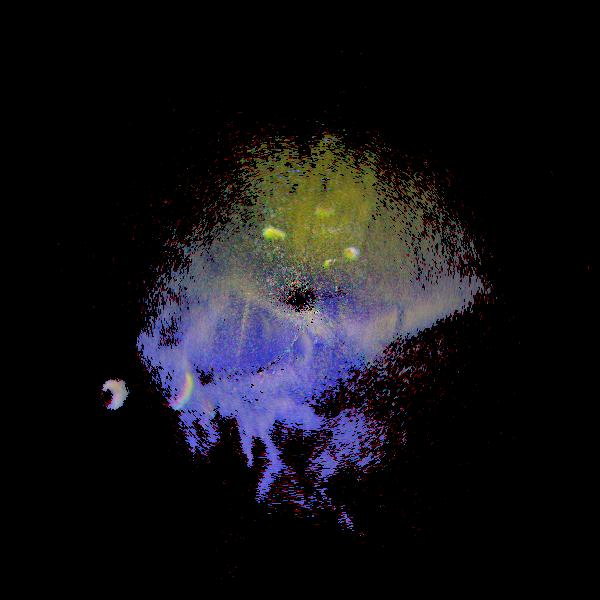roost: (144, 357, 198, 411), (176, 390, 215, 429), (97, 379, 127, 409)
